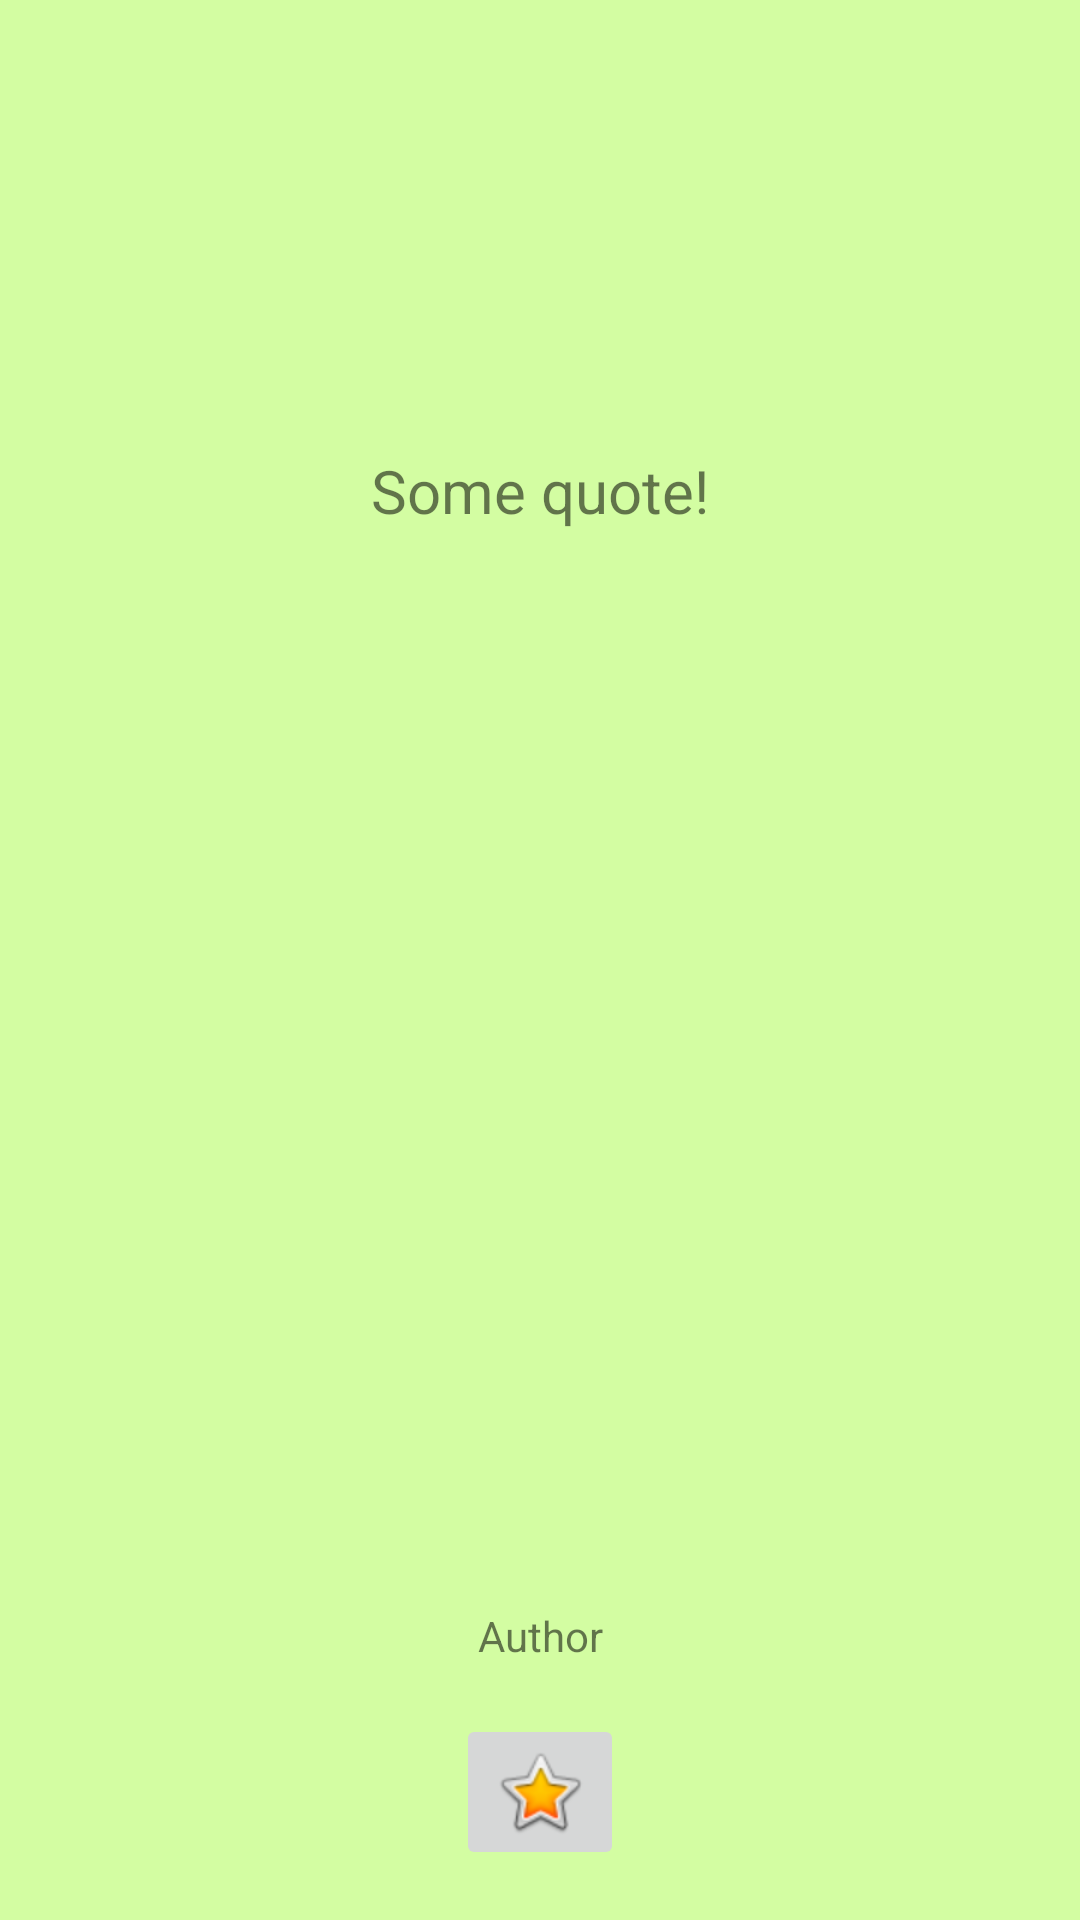

Screen size 1080 x 1920. Icon name, then its center in pixels as (x=x, y=y):
star on: (x=540, y=1792)
